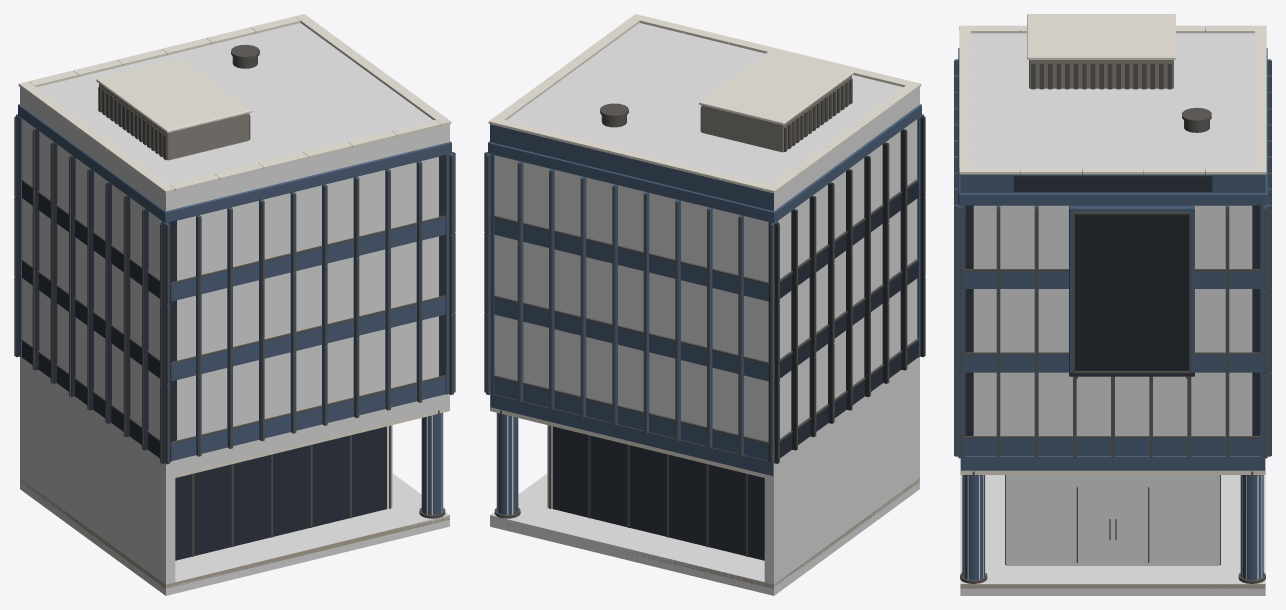
The picture shows the model from 3 angles, left to right: view 1: azimuth 30°, elevation 25°; view 2: azimuth 150°, elevation 25°; view 3: azimuth 270°, elevation 25°; orthographic projection. The views are drawn at different scales.
Parts seen in each view (by area): view 1: T02_body, col_upper, col_lobby_back, col_floor, col_pilotis_-4; view 2: T02_body, col_upper, col_lobby_back, col_floor, col_pilotis_+4; view 3: T02_body, col_upper, col_lobby, col_floor, col_pilotis_-4, col_pilotis_+4.
Boxes of the visible parts, box(x1,y1,x2,y2) form: T02_body: box(14, 14, 455, 588); col_upper: box(20, 23, 449, 476); col_lobby_back: box(20, 370, 175, 584); col_floor: box(20, 473, 449, 595); col_pilotis_-4: box(426, 413, 443, 514); T02_body: box(484, 14, 925, 588); col_upper: box(490, 23, 919, 476); col_lobby_back: box(764, 370, 919, 584); col_floor: box(490, 473, 919, 595); col_pilotis_+4: box(496, 413, 513, 514); T02_body: box(954, 14, 1271, 588); col_upper: box(960, 33, 1265, 471); col_lobby: box(1006, 475, 1219, 565); col_floor: box(960, 475, 1265, 595); col_pilotis_-4: box(963, 475, 985, 579); col_pilotis_+4: box(1242, 475, 1262, 579).
Bounding box in the file's own units: 9.43 × 13.13 × 8.33.
